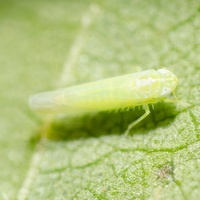insect: (29, 69, 177, 135)
